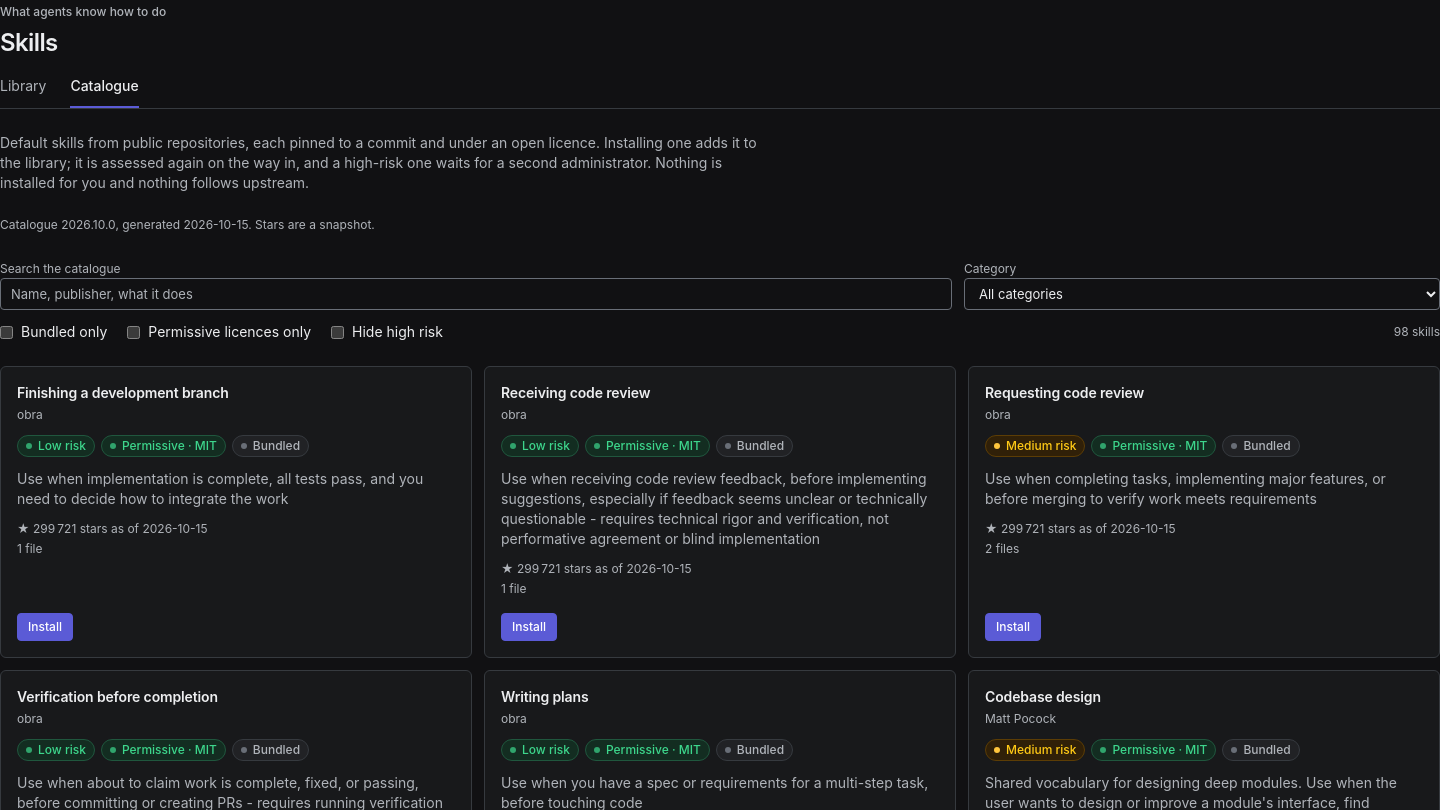
Scenario: the catalogue page › each card shows its risk, licence, delivery and stars, and the facets narrow the list
The image size is (1440, 810).
Click the checkbox labelled "Hide high risk" at point(338, 332), box [331,326,344,338]
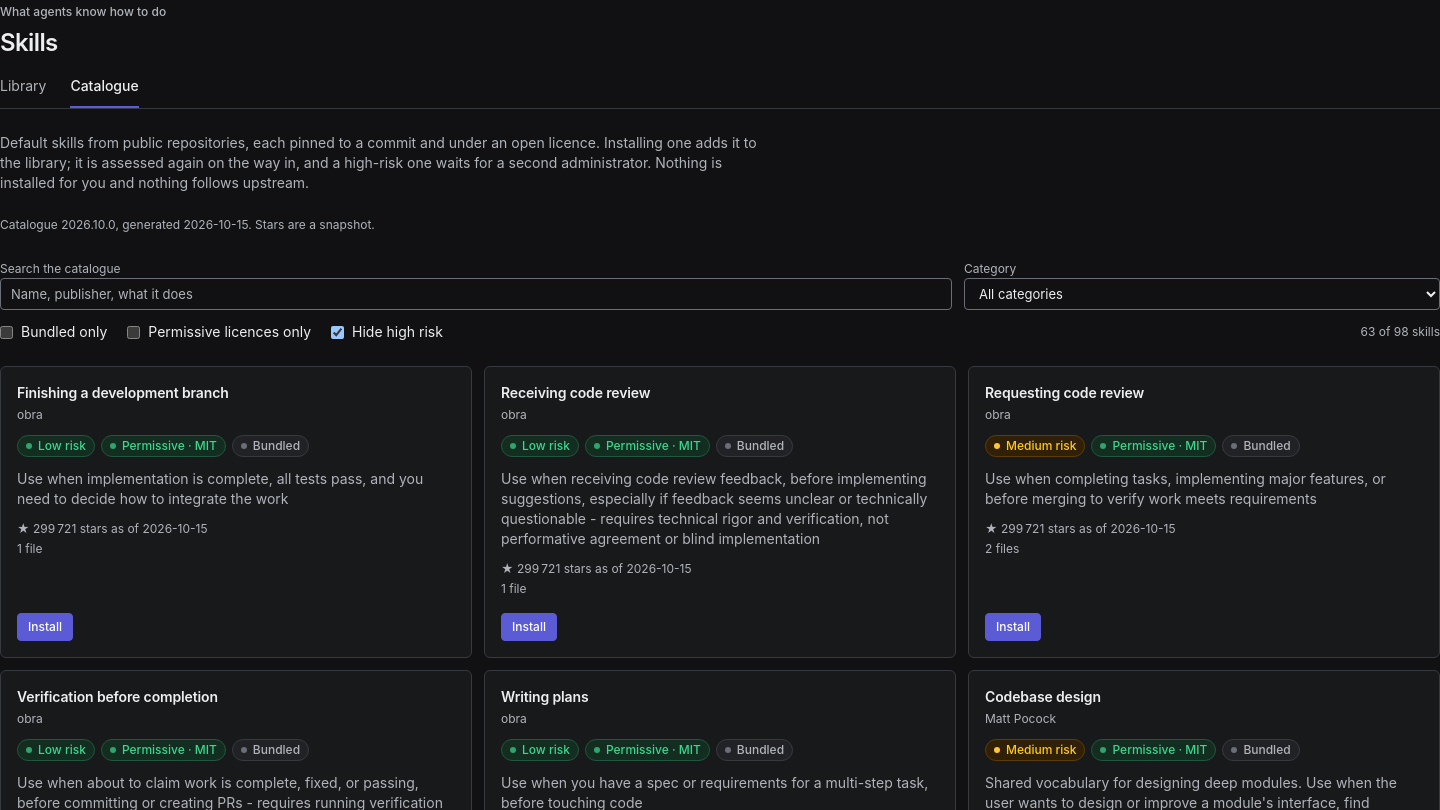
Click the checkbox labelled "Hide high risk" at point(338, 332), box [331,326,344,338]
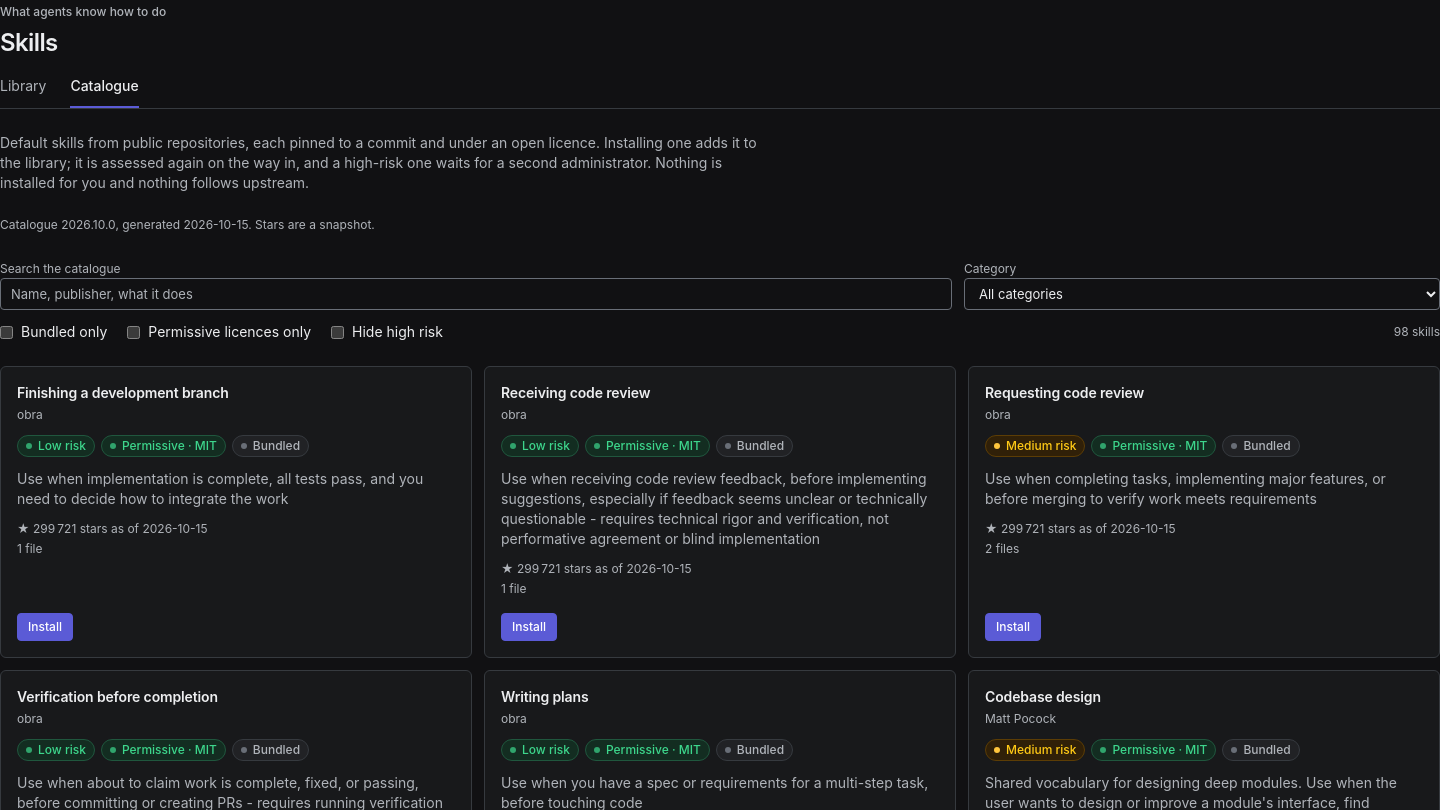
Type "no-such-skill-anywhere" into the search field labelled "Search the catalogue" at point(476, 294), box [0,278,952,310]
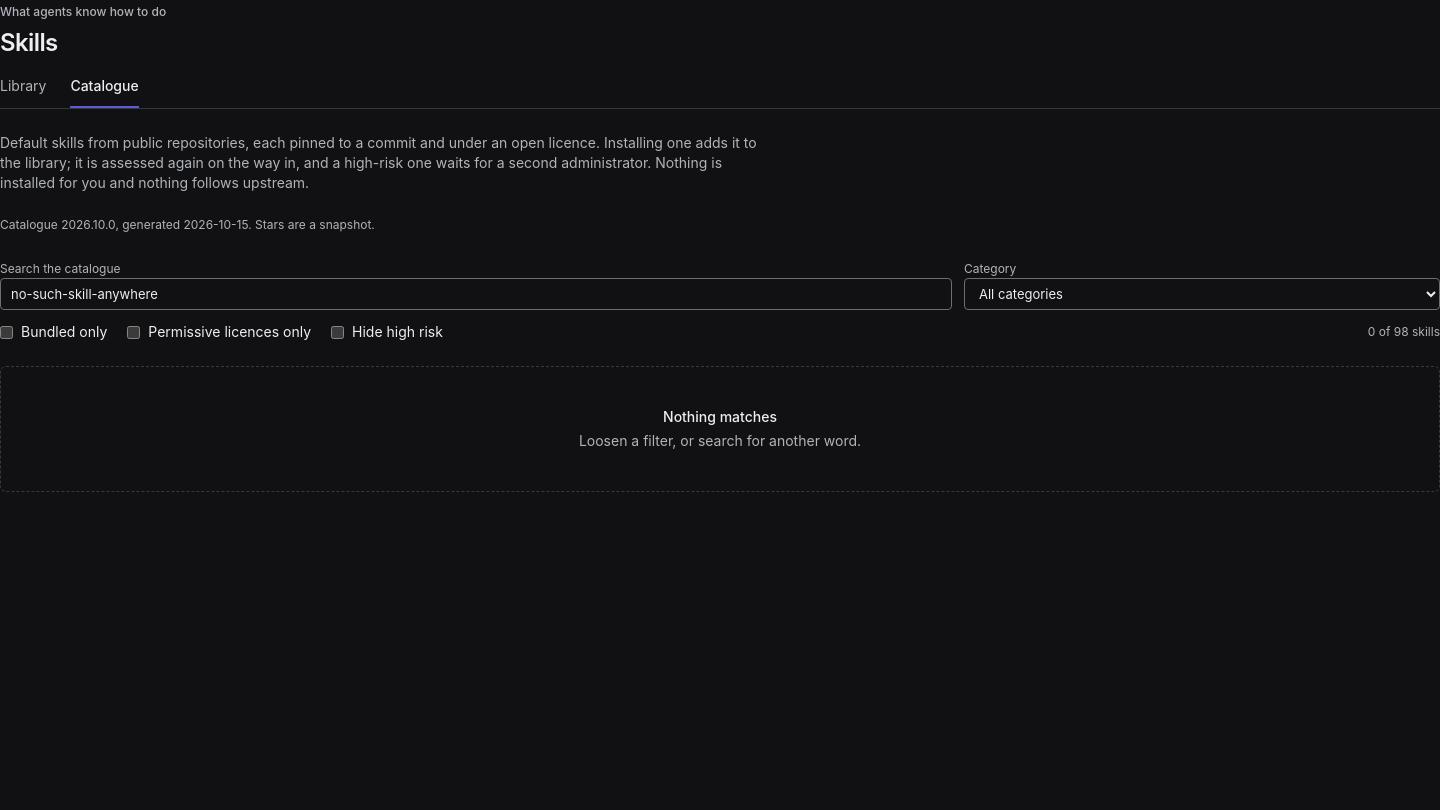
Result: the text "Nothing matches" is shown at [663,408,777,425]
